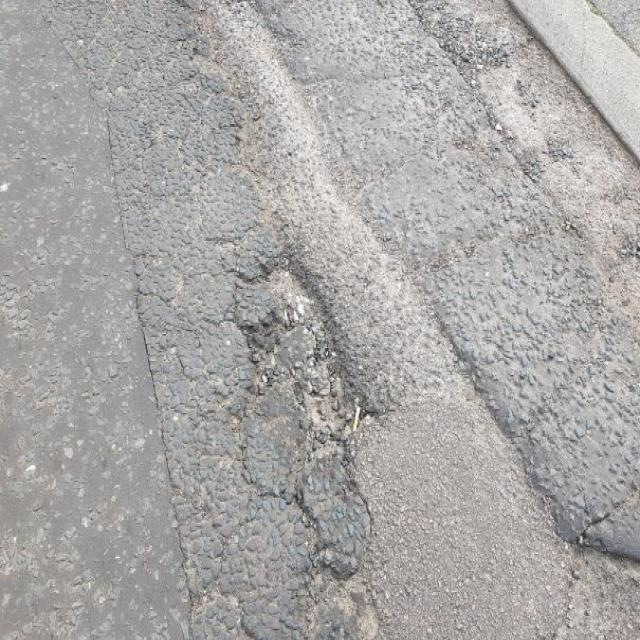pothole: (214, 232, 388, 504)
